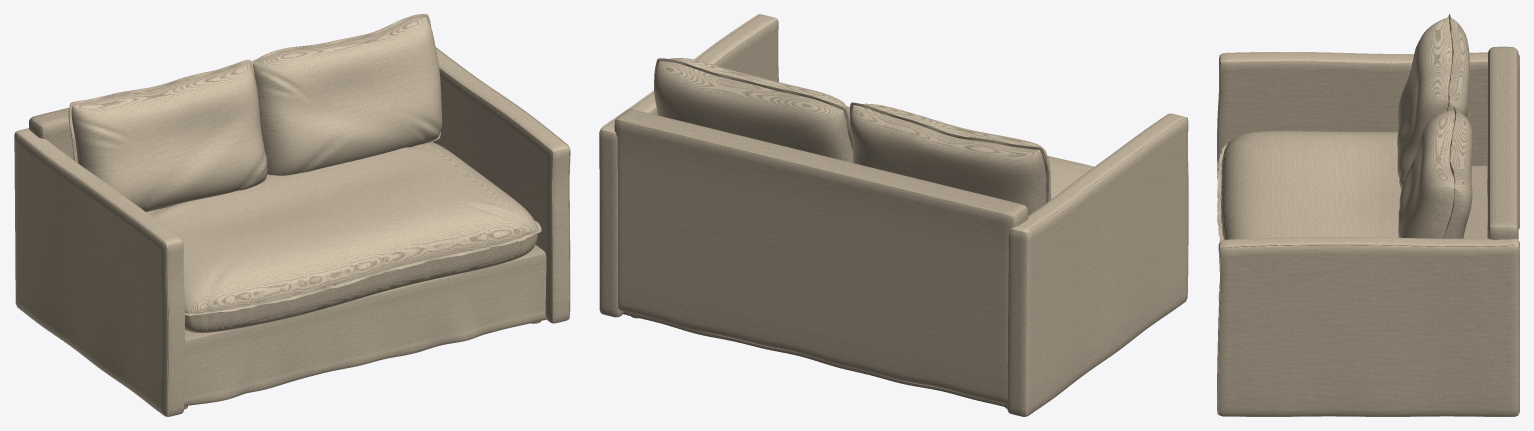
The model's file is sofa.glb.
3 views of the same model, side by side, from view 1: azimuth 30°, elevation 25°; view 2: azimuth 150°, elevation 25°; view 3: azimuth 270°, elevation 25° (orthographic). The views are drawn at different scales.
Visible parts, largest first — view 1: Face panel (×3), Slipcovered arm (×2), Front apron, Underside panel, Folded French seam (×3), Back rail, Slipcover return seam (×2); view 2: Back rail, Slipcovered arm (×2), Underside panel (×2), Face panel (×3), Folded French seam (×2), Front apron; view 3: Slipcovered arm (×2), Face panel (×3), Back rail, Underside panel (×2), Front apron, Slipcover return seam, Folded French seam.
Part boxes in pixels (box(x1,y1,x2,y2)): Face panel (×3): box(71, 17, 537, 313); Slipcovered arm (×2): box(14, 48, 569, 416); Front apron: box(184, 245, 546, 406); Underside panel: box(185, 233, 537, 332); Folded French seam (×3): box(69, 14, 541, 315); Back rail: box(29, 107, 73, 160); Slipcover return seam (×2): box(16, 47, 570, 416); Back rail: box(614, 109, 1028, 404); Slipcovered arm (×2): box(599, 14, 1188, 416); Underside panel (×2): box(654, 61, 1046, 215); Face panel (×3): box(669, 58, 1094, 200); Folded French seam (×2): box(654, 58, 1048, 202); Front apron: box(623, 311, 1007, 407); Slipcovered arm (×2): box(1217, 52, 1519, 416); Face panel (×3): box(1221, 17, 1454, 239); Back rail: box(1487, 46, 1518, 239); Underside panel (×2): box(1444, 17, 1472, 238); Front apron: box(1463, 166, 1487, 238); Slipcover return seam: box(1217, 244, 1514, 414); Folded French seam: box(1217, 143, 1227, 300).
Size of the model in its own units: 1.57 by 0.8445 by 1.03.
6 materials, 6 textured.
